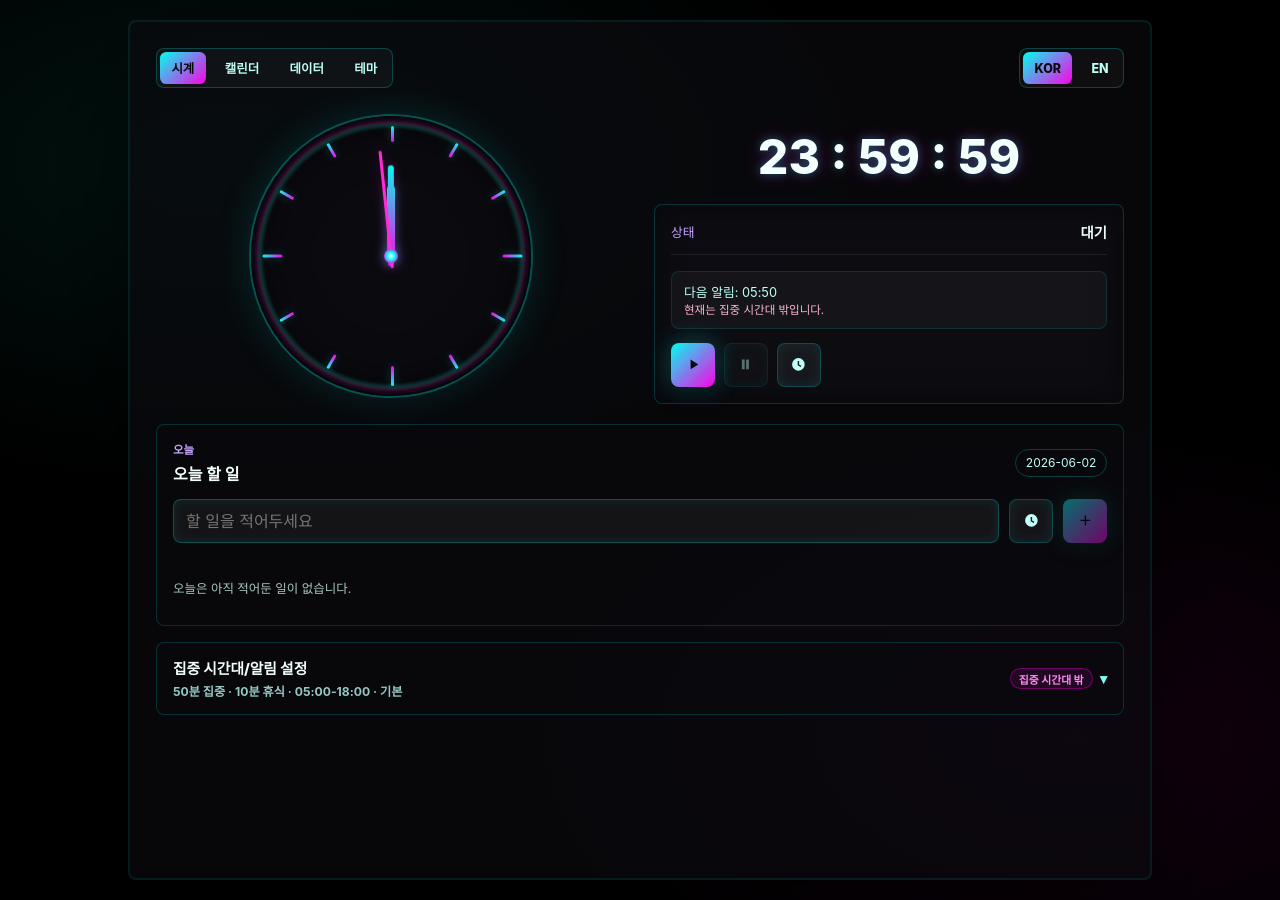
Test: RhythmApp › keeps a manually selected calendar date when the app crosses midnight
Click the button "캘린더" at (242, 68), box [214,52,270,84]
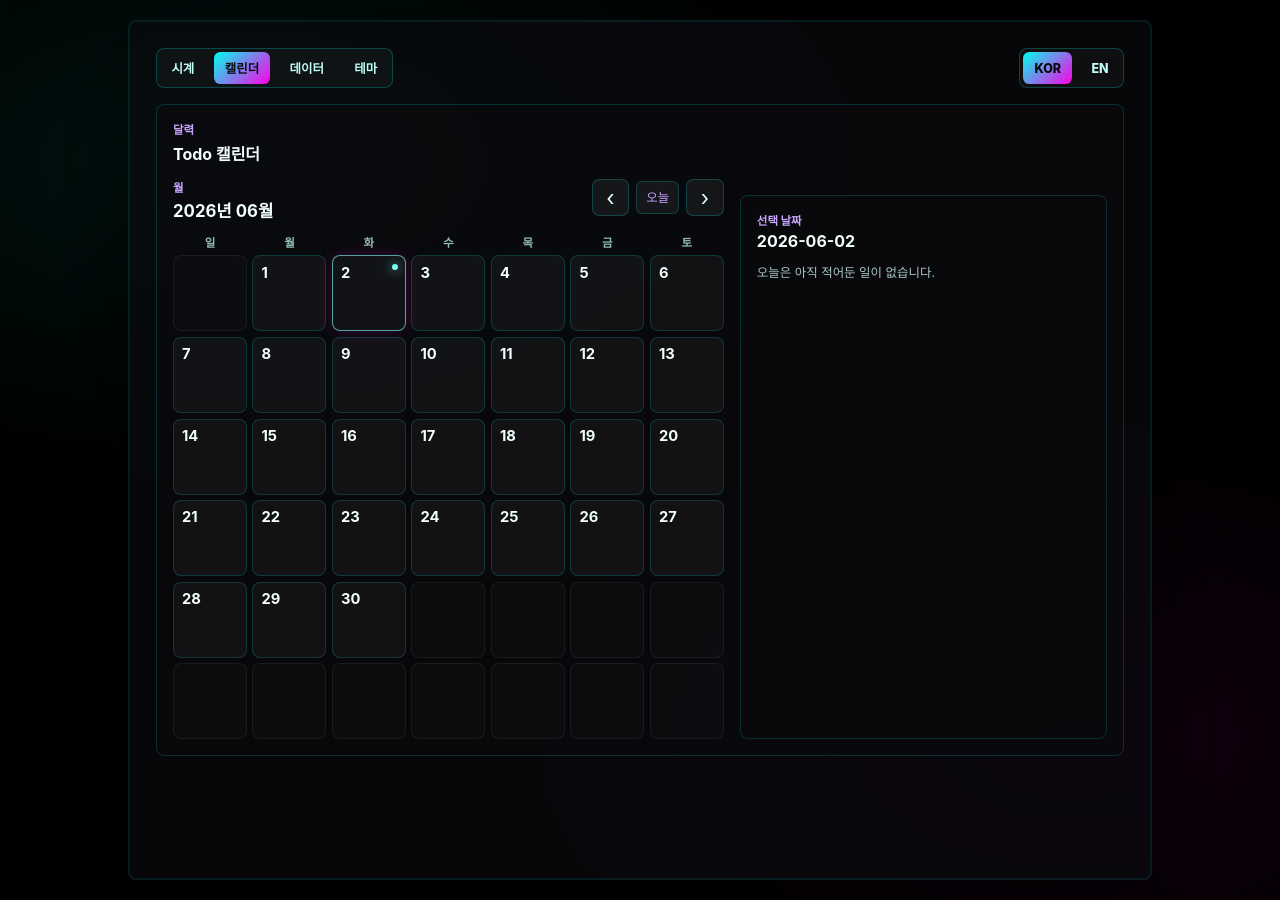
Click the button named "2026-06-05 할 일 없음" at (607, 293), box [570,255,644,331]
Wait 500 ms
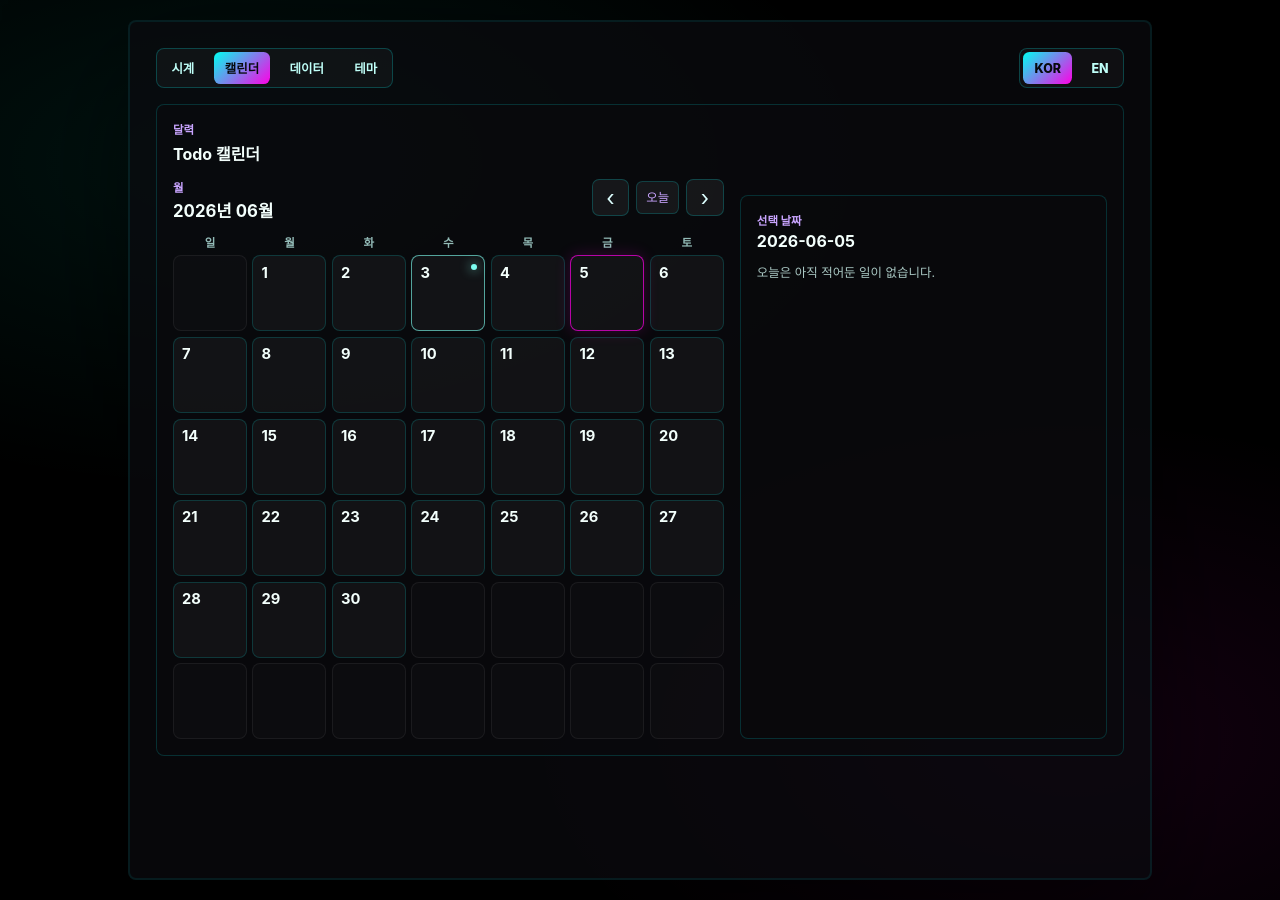
Result: the heading "2026-06-05" is shown at [757,231,855,251]
